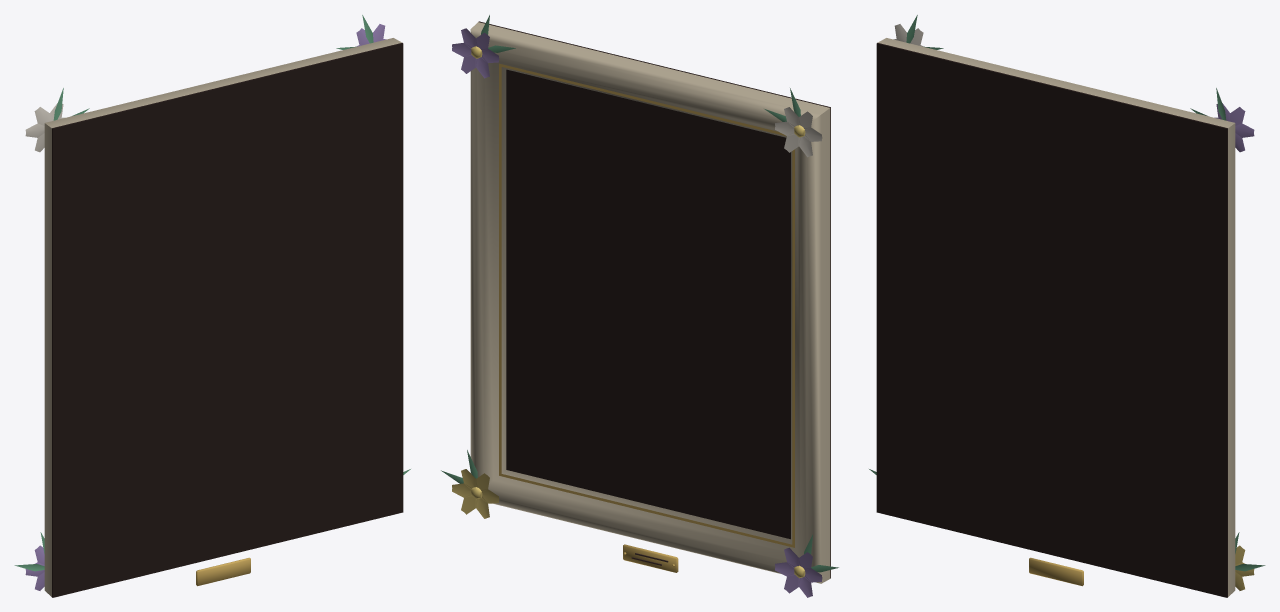
The model's file is crocus_spring_port.glb.
3 renders of one model, left to right at view 1: azimuth 30°, elevation 25°; view 2: azimuth 150°, elevation 25°; view 3: azimuth 330°, elevation 25°, orthographic.
Visible parts, largest first — view 1: crocus_spring_port; view 2: crocus_spring_port; view 3: crocus_spring_port.
Boxes of the visible parts, box(x1,y1,x2,y2) form: crocus_spring_port: box(14, 15, 410, 597); crocus_spring_port: box(441, 15, 838, 597); crocus_spring_port: box(869, 15, 1265, 597).
Size of what is drawn, in the model's own units: 1.02 by 1.28 by 0.0831.
